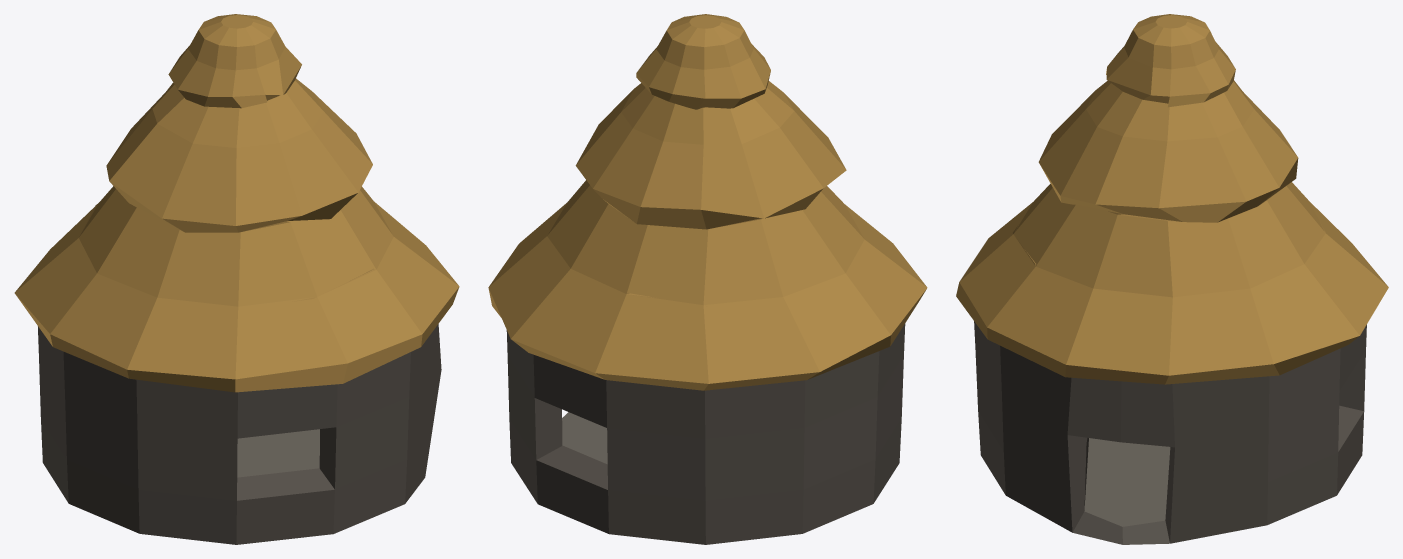
The model's file is forest_people_house_07.fbx.
3 views of the same model, side by side, from view 1: azimuth 30°, elevation 25°; view 2: azimuth 150°, elevation 25°; view 3: azimuth 270°, elevation 25° (orthographic).
Parts seen in each view (by area): view 1: Cylinder; view 2: Cylinder; view 3: Cylinder.
Boxes of the visible parts, x1,y1,x2,y2 form: Cylinder: (14,14,459,544); Cylinder: (488,14,927,544); Cylinder: (956,14,1388,544).
Size of the model in its own units: 410 by 479 by 418.
